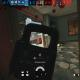Character: (36, 39, 42, 45)
